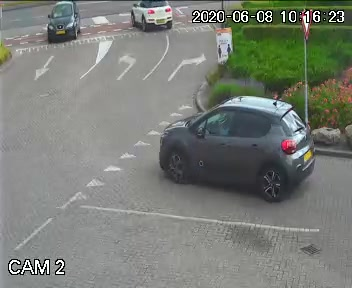car: (143, 90, 323, 212), (40, 0, 88, 48), (124, 0, 177, 34)
